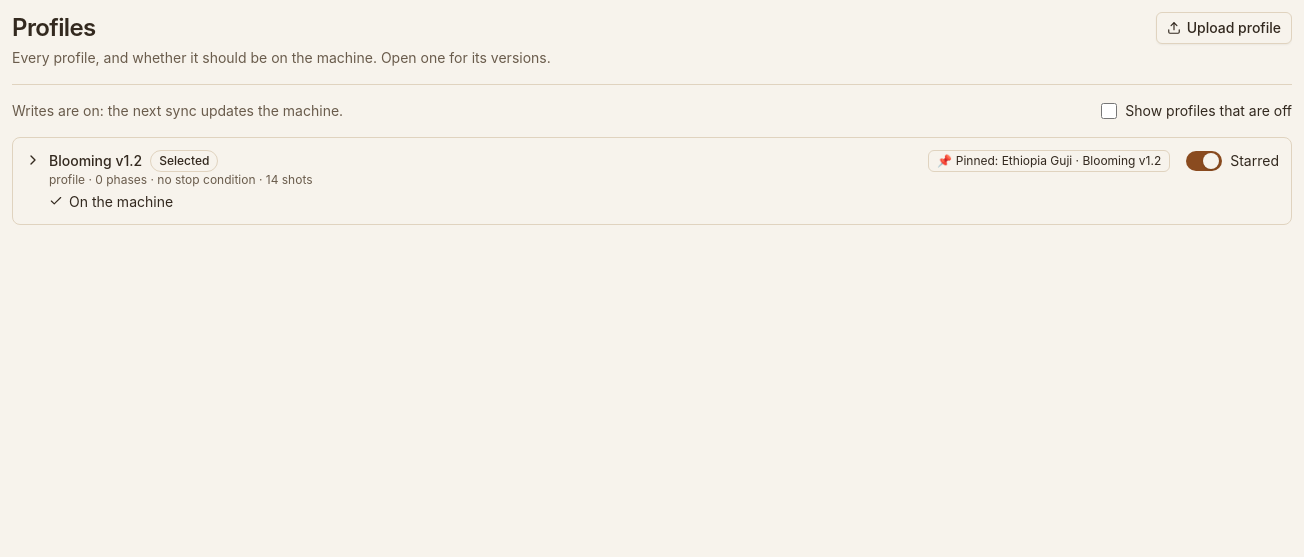
a pinned row on the Profiles page › adds the shared successor sentence when the copy is the machine's selected profile
expect the text "Blooming v1.2" is shown: met, box [49,151,142,171]
What coordinates should you click on to do the following:
click the button with test id "profile-toggle"
I would click on:
 (96, 160)
Its box is [25,150,912,212].
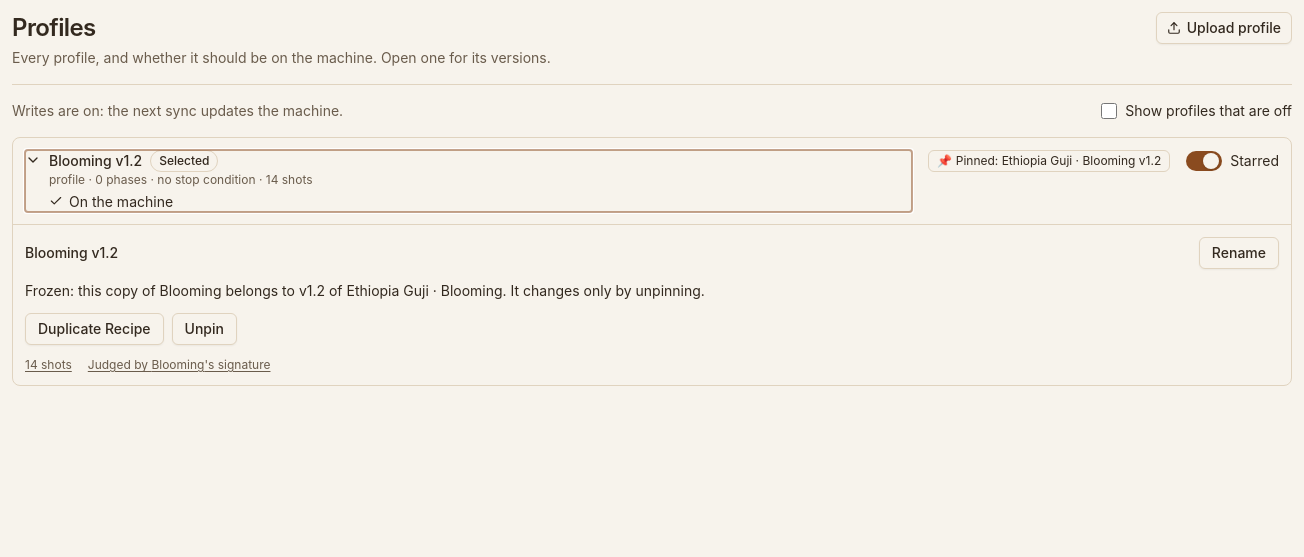
What coordinates should you click on to do the following:
click the button with aria-label "Unpin v1.2"
I would click on:
 (204, 329)
Its box is [172,313,237,345].
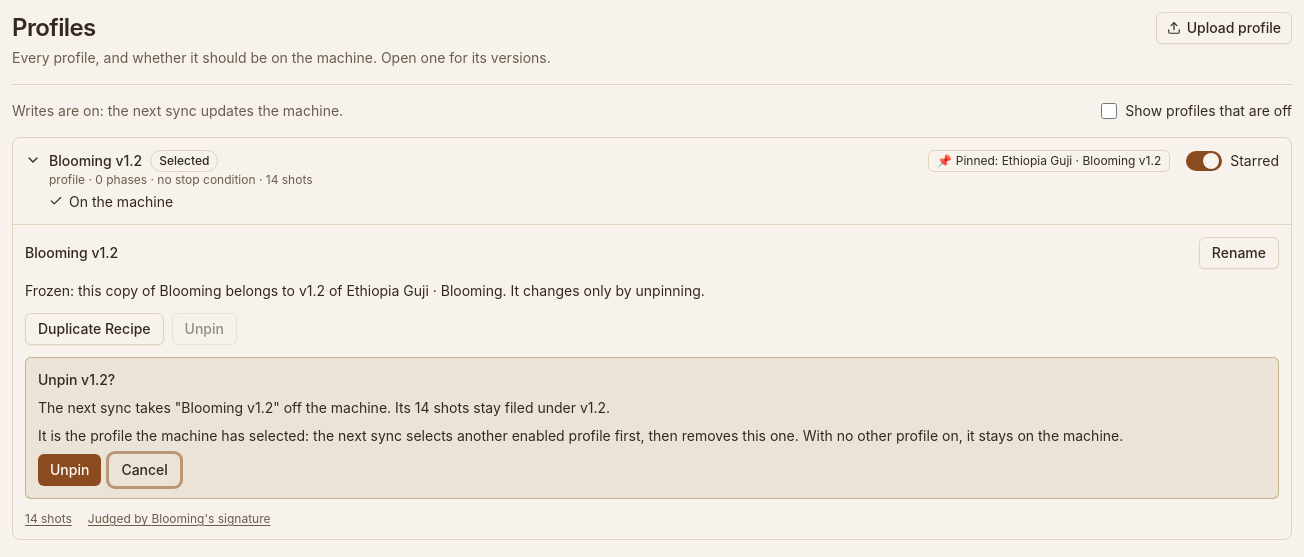
expect the text with test id "unpin-selected" shows "It is the profile the machine has selected: the next sync selects another enabled profile first, then removes this one. With no other profile on, it stays on th": met, box [38,427,1123,444]
